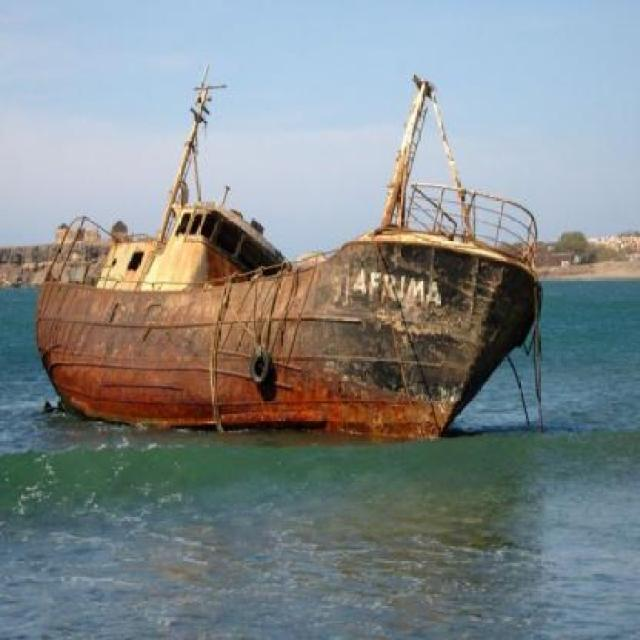corrosion: (41, 81, 548, 439)
